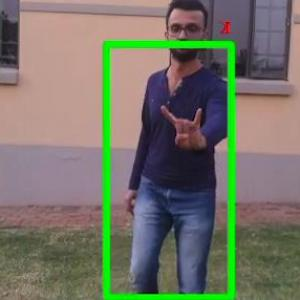takeoff-hand: (155, 94, 214, 162)
